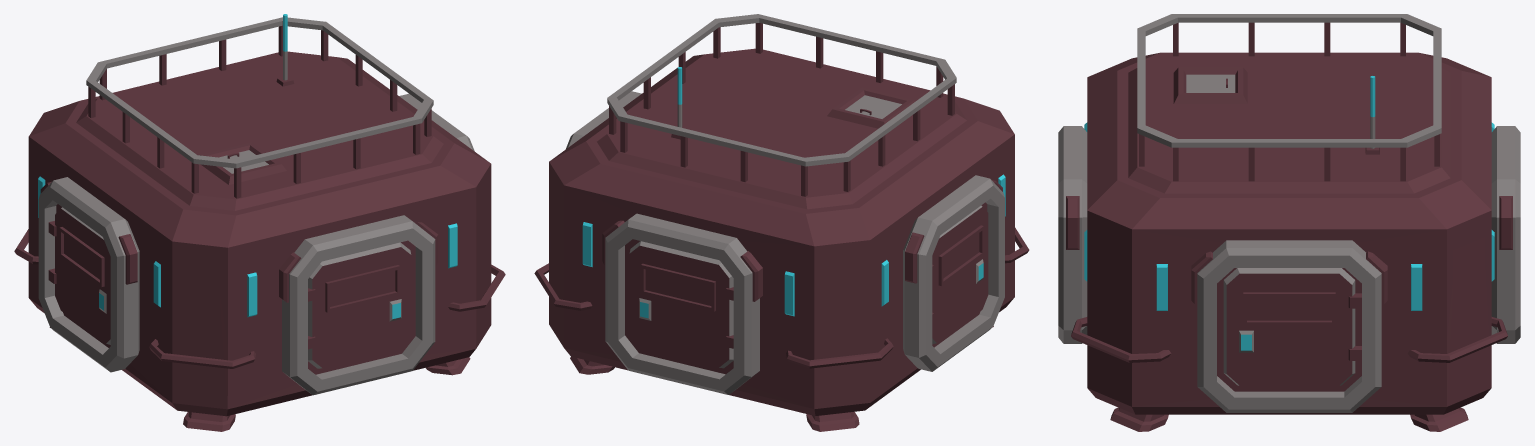
The model's file is scifi-planet-base-connector-four.fbx.
3 views of the same model, side by side, from view 1: azimuth 30°, elevation 25°; view 2: azimuth 150°, elevation 25°; view 3: azimuth 270°, elevation 25° (orthographic). The views are drawn at different scales.
Visible parts, largest first — view 1: scifi-planet-base-connector-four; view 2: scifi-planet-base-connector-four; view 3: scifi-planet-base-connector-four.
Boxes of the visible parts, box(x1,y1,x2,y2) form: scifi-planet-base-connector-four: box(14, 14, 505, 431); scifi-planet-base-connector-four: box(534, 14, 1029, 431); scifi-planet-base-connector-four: box(1058, 14, 1520, 431).
Size of the model in its own units: 8 by 5.97 by 8.
